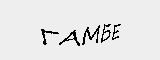А: (56, 27, 81, 46)
Б: (99, 22, 111, 42)
Г: (39, 26, 59, 47)
Е: (112, 21, 123, 40)
М: (83, 24, 101, 45)
